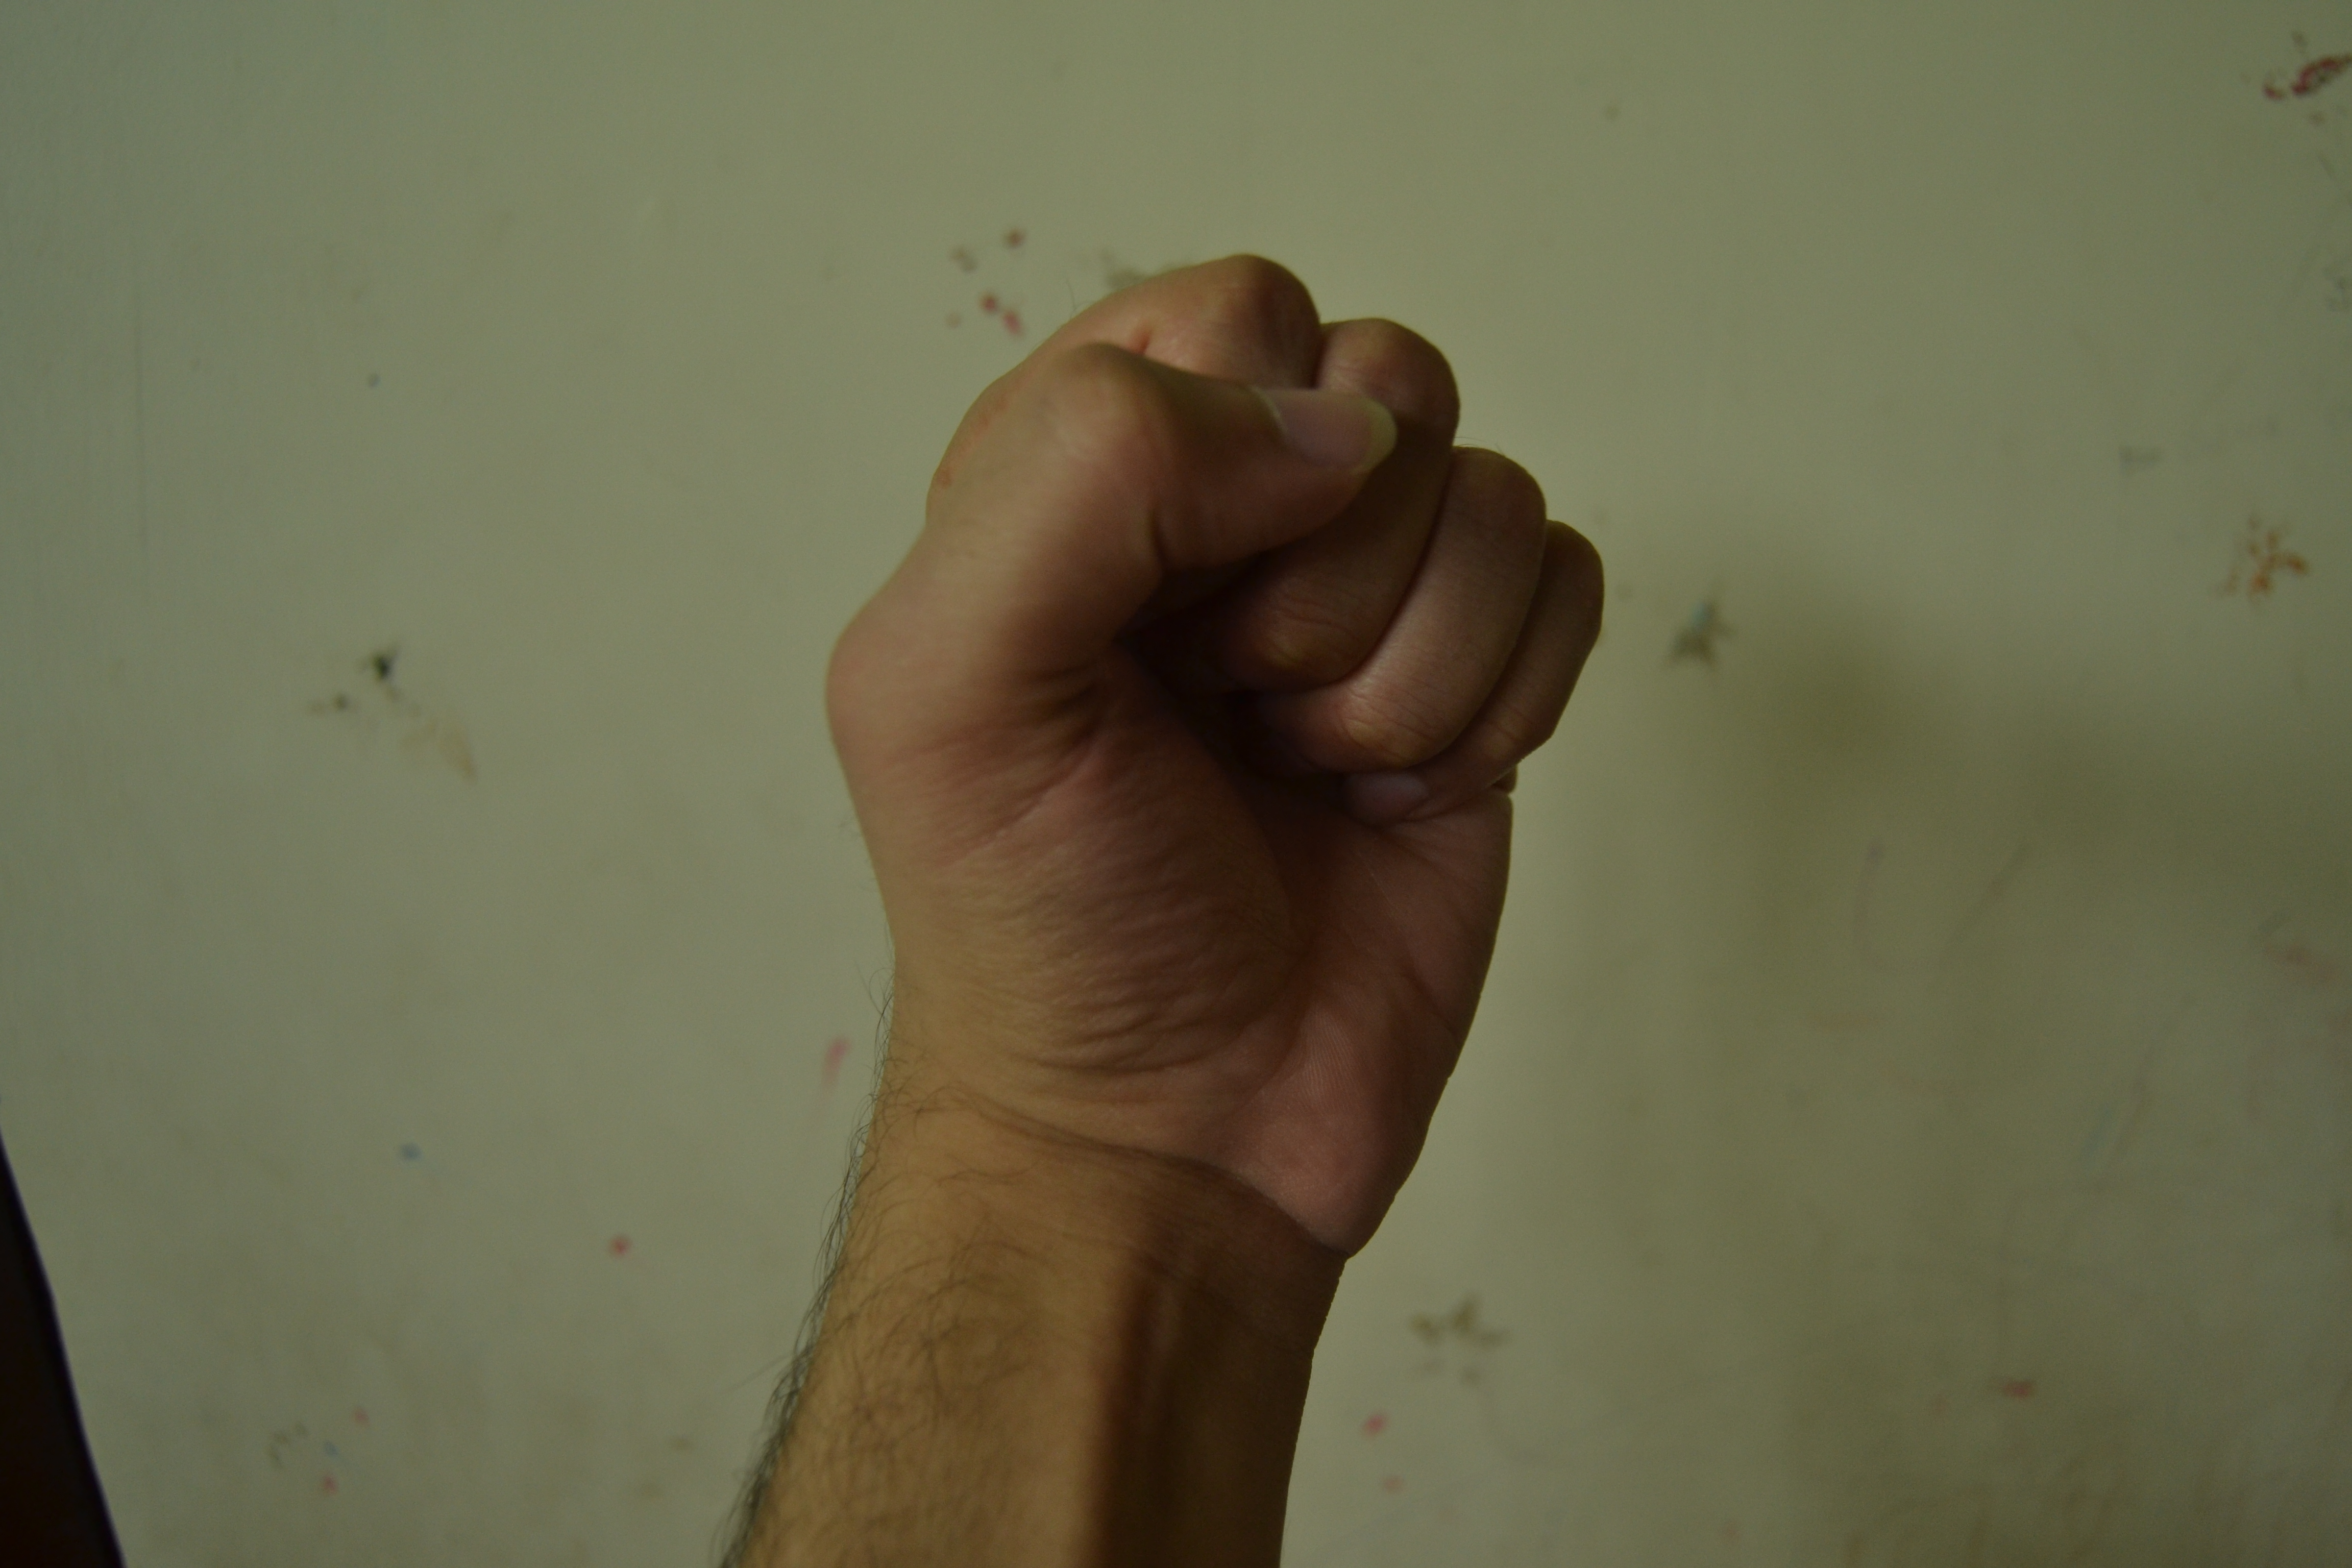click: (819, 159, 1631, 1325)
